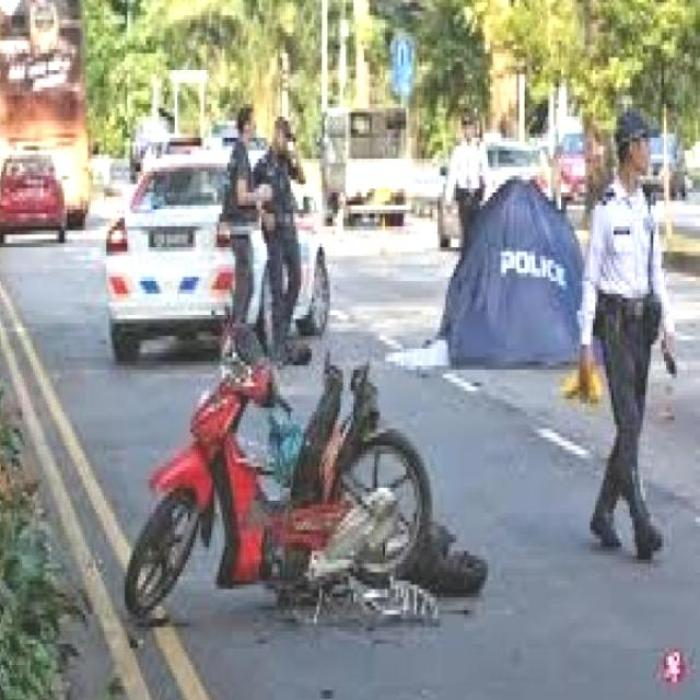Accident: (146, 335, 487, 667)
